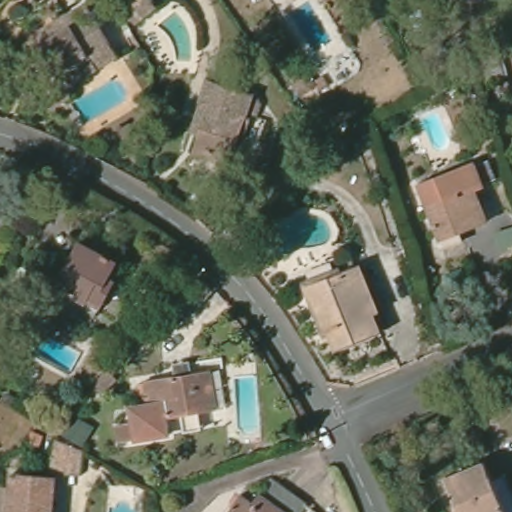pool: (61, 74, 132, 124), (258, 208, 336, 252), (272, 2, 332, 58), (27, 330, 91, 375), (151, 9, 199, 66), (229, 368, 266, 441), (418, 105, 451, 153)
